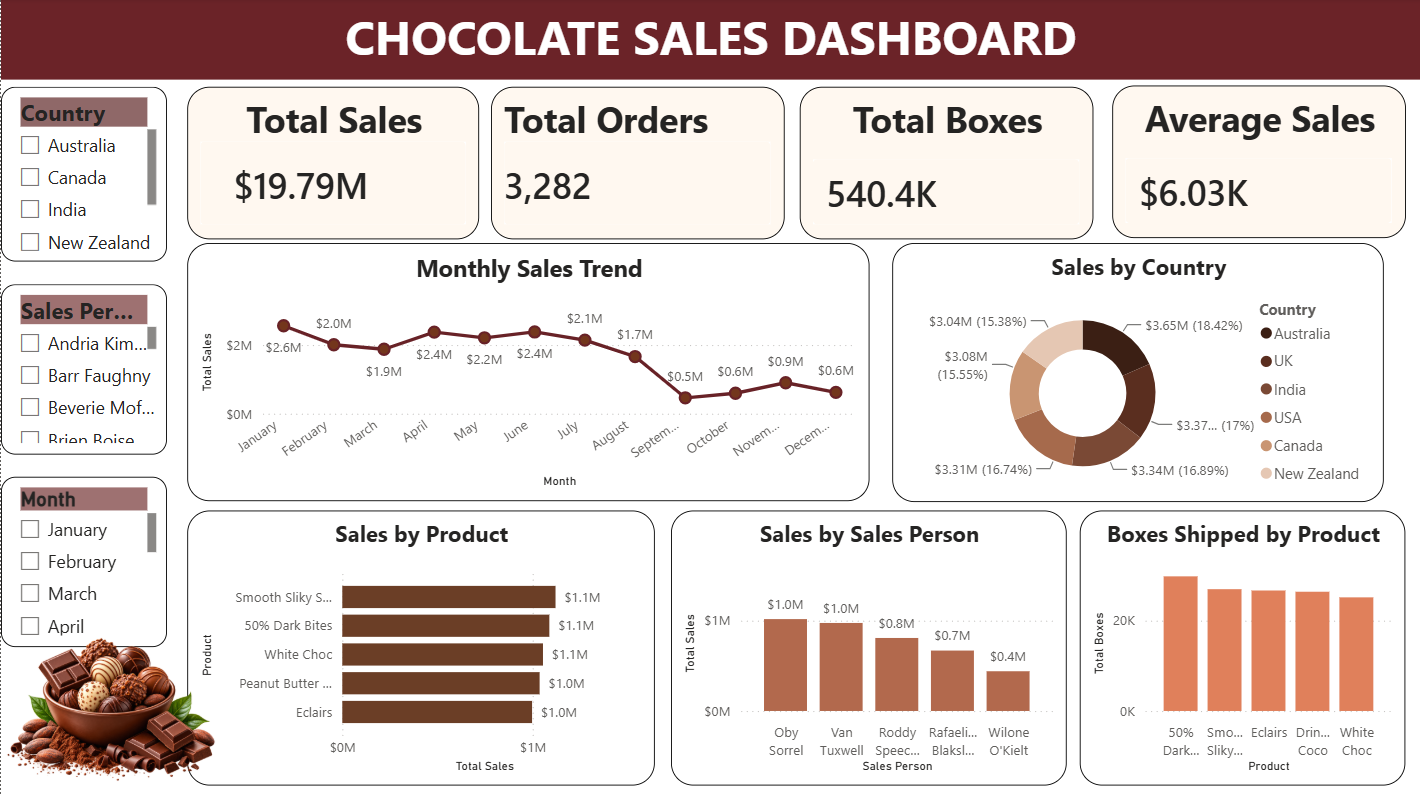

The dashboard page shown, as its layout file describes it:
{"tool":"powerbi","page":{"name":"Page 1","canvas":[1280,720],"ordinal":0},"visuals":[{"type":"textbox","box":[0,0,1280.6,73.6],"z":0},{"type":"cardVisual","title":"Total Sales","fields":{"Data":["Chocolate Sales (3).Total Sales"]},"box":[167.8,80,263.5,137.2],"z":1000},{"type":"cardVisual","title":"Total Boxes","fields":{"Data":["Chocolate Sales (3).Total Boxes"]},"box":[720.4,79.6,264.8,137.2],"z":2000},{"type":"cardVisual","title":"Average Sales","fields":{"Data":["Chocolate Sales (3).Average Sales"]},"box":[1002.2,78.9,264.8,137.2],"z":3000},{"type":"cardVisual","title":"Total Orders","fields":{"Data":["Chocolate Sales (3).Total Orders"]},"box":[441.9,79.6,264.8,137.2],"z":4000},{"type":"lineChart","title":"Monthly Sales Trend","fields":{"Category":["Chocolate Sales (3).Date.Variation.Date Hierarchy.Month"],"Y":["Chocolate Sales (3).Total Sales"]},"box":[167.5,221.2,615,232.5],"z":5000},{"type":"donutChart","title":"Sales by Country","fields":{"Category":["Chocolate Sales (3).Country"],"Y":["Chocolate Sales (3).Total Sales"]},"box":[803.8,221.2,443.2,233.3],"z":6000},{"type":"clusteredBarChart","title":"Sales by Product","fields":{"Category":["Chocolate Sales (3).Product"],"Y":["Chocolate Sales (3).Total Sales"]},"box":[167.4,462.4,421.3,248.4],"z":7000},{"type":"clusteredColumnChart","title":"Sales by Sales Person","fields":{"Category":["Chocolate Sales (3).Sales Person"],"Y":["Chocolate Sales (3).Total Sales"]},"box":[603.8,462.4,356.8,248.4],"z":8000},{"type":"columnChart","title":"Boxes Shipped by Product","fields":{"Category":["Chocolate Sales (3).Product"],"Y":["Chocolate Sales (3).Total Boxes"]},"box":[972.9,462.4,293.7,248.4],"z":9000},{"type":"slicer","fields":{"Values":["Chocolate Sales (3).Country"]},"box":[0,79.6,149.6,157.8],"z":10000},{"type":"slicer","fields":{"Values":["Chocolate Sales (3).Sales Person"]},"box":[0,258.3,149.6,153.7],"z":11000},{"type":"slicer","title":"Month","fields":{"Values":["Chocolate Sales (3).Date.Variation.Date Hierarchy.Month"]},"box":[0,431.9,149.6,153.7],"z":12000},{"type":"image","box":[0,559.7,198.6,159.7],"z":13000}]}

Visuals, with their boxes in screenshot pixels (x1, y1, x2, y2), scaled from the page's 1280x720 canvas onto the 1420x796 screenshot:
textbox: locate(0, 0, 1419, 81)
"Total Sales" cardVisual: locate(186, 88, 478, 240)
"Total Boxes" cardVisual: locate(799, 88, 1093, 240)
"Average Sales" cardVisual: locate(1112, 87, 1406, 239)
"Total Orders" cardVisual: locate(490, 88, 784, 240)
"Monthly Sales Trend" lineChart: locate(186, 245, 868, 502)
"Sales by Country" donutChart: locate(892, 245, 1383, 502)
"Sales by Product" clusteredBarChart: locate(186, 511, 653, 786)
"Sales by Sales Person" clusteredColumnChart: locate(670, 511, 1066, 786)
"Boxes Shipped by Product" columnChart: locate(1079, 511, 1405, 786)
slicer - Chocolate Sales (3).Country: locate(0, 88, 166, 262)
slicer - Chocolate Sales (3).Sales Person: locate(0, 286, 166, 455)
"Month" slicer: locate(0, 477, 166, 647)
image: locate(0, 619, 220, 795)
